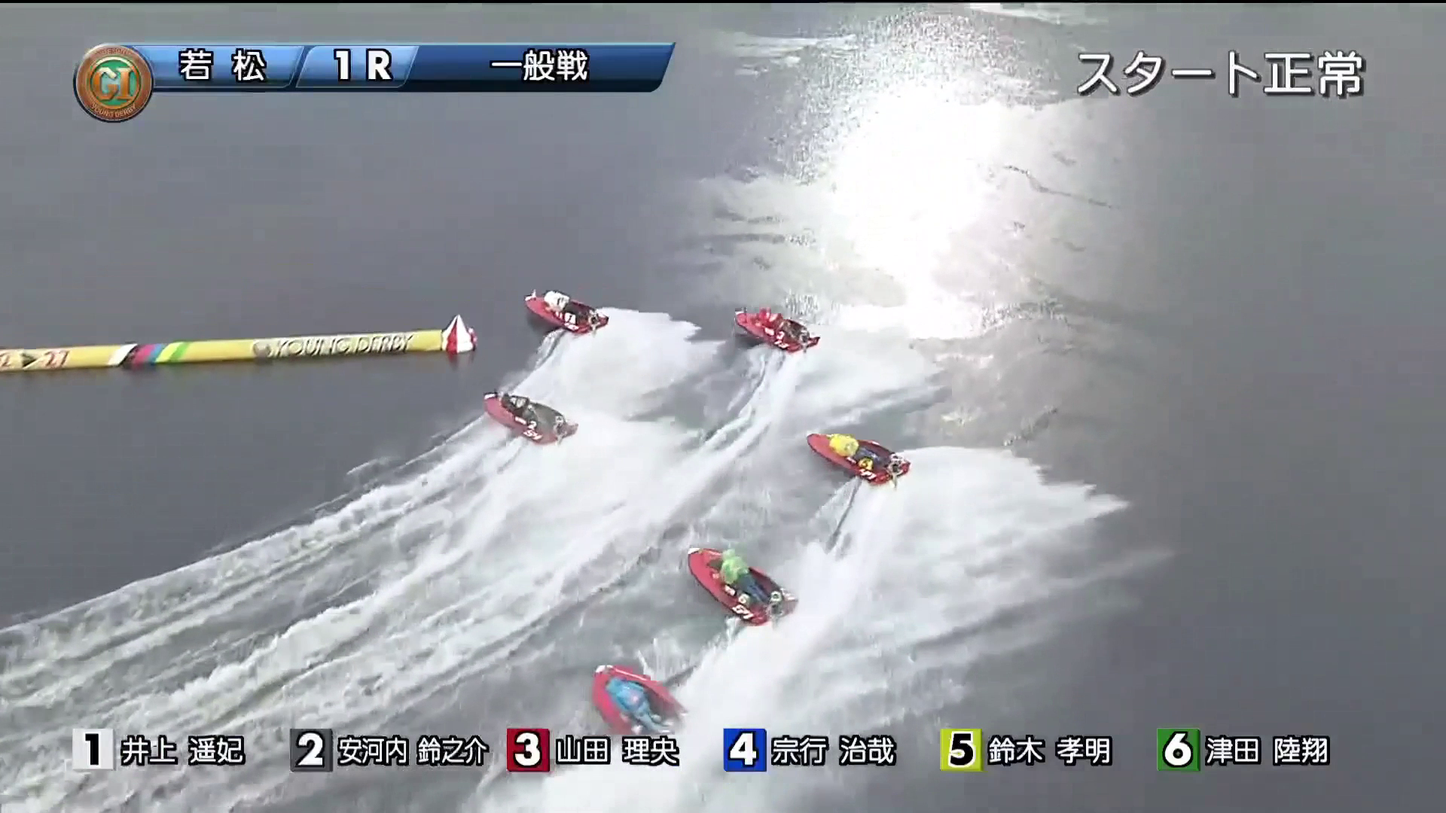１号艇: (510, 284, 581, 337)
２号艇: (454, 376, 582, 436)
３号艇: (728, 292, 826, 339)
４号艇: (692, 535, 826, 600)
５号艇: (582, 670, 706, 725)
６号艇: (805, 412, 904, 478)
